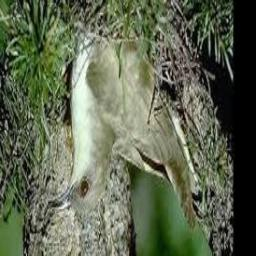Cuckoo: (47, 33, 194, 232)
